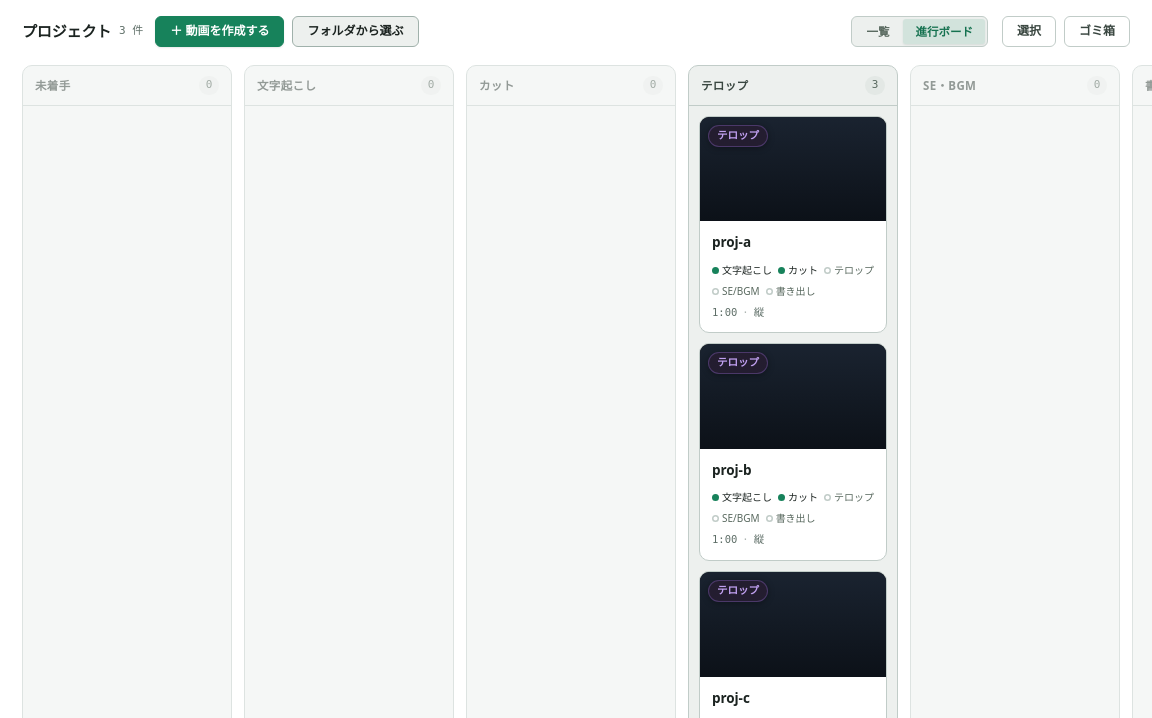
進行ボードの選択モード › 2 件選んで一括移動すると、確認のうえ DELETE が逐次 2 回飛び、一覧が更新される
Click the button "選択" at (1029, 32), box [1002,16,1056,47]
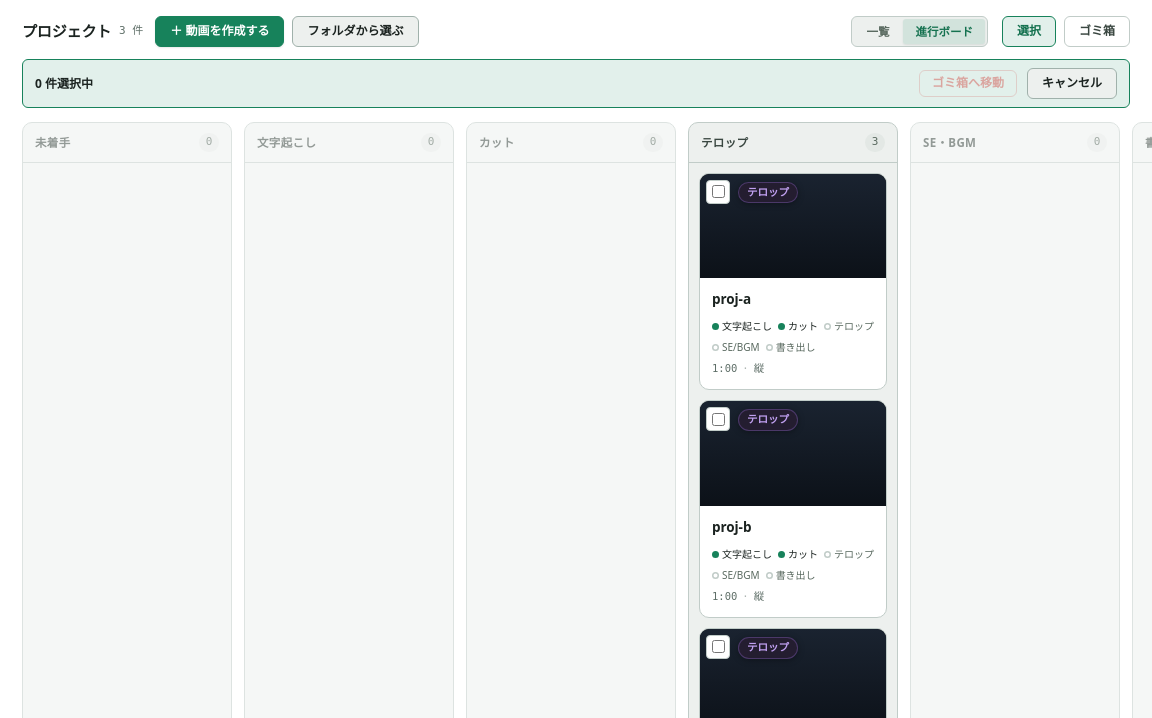
Click the button "proj-a" at (793, 281), box [699,172,887,390]
(page scrolled)
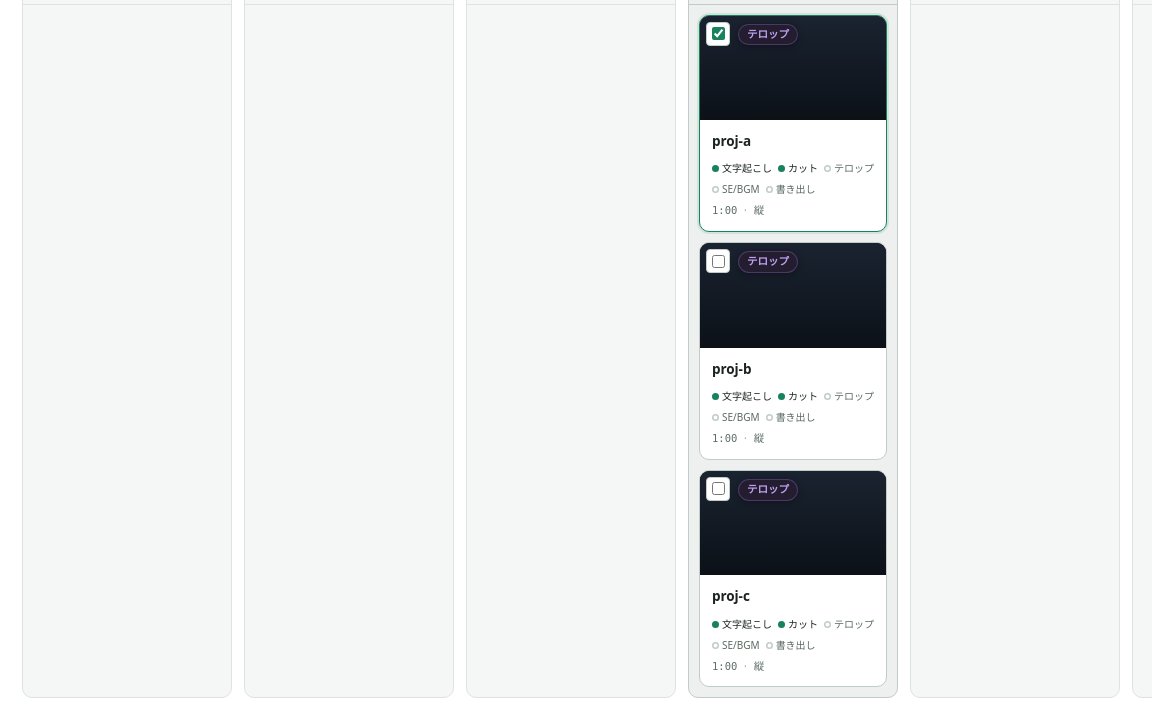
Click the button "proj-c" at (793, 579), box [699,470,887,687]
(page scrolled)
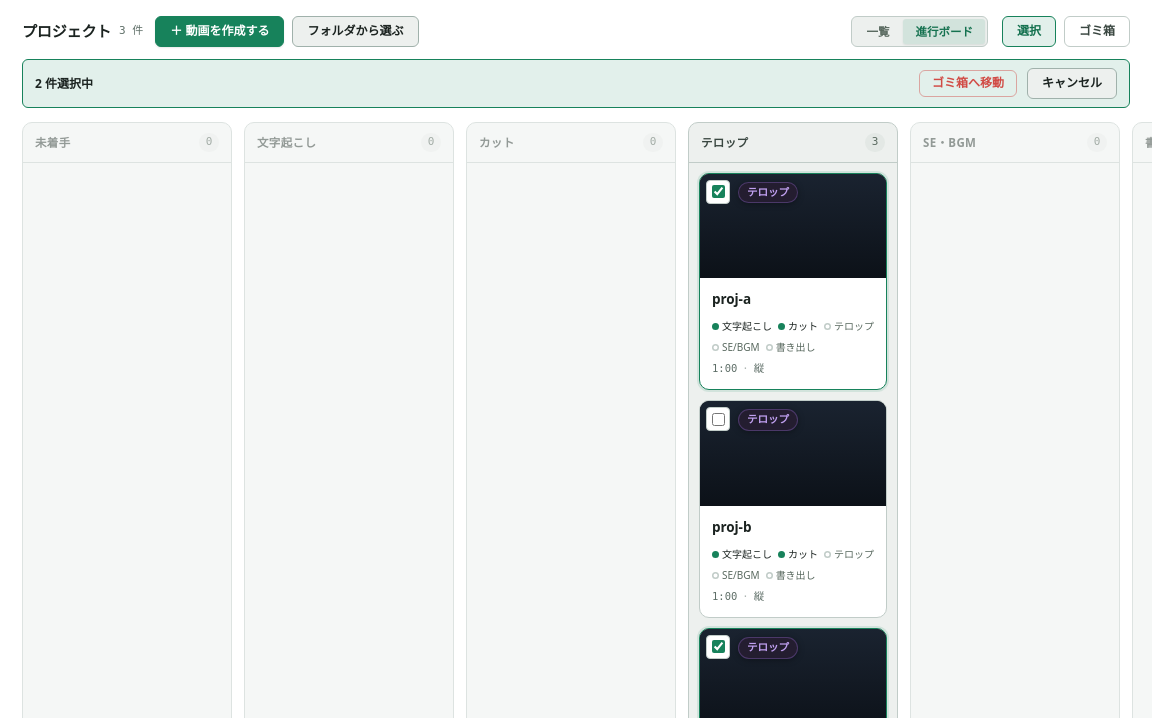
Expected: the message with test id "home-select-bar" shows "2 件選択中", [22,59,1130,108]
Click the button "ゴミ箱へ移動" at (968, 84), box [919,70,1017,97]
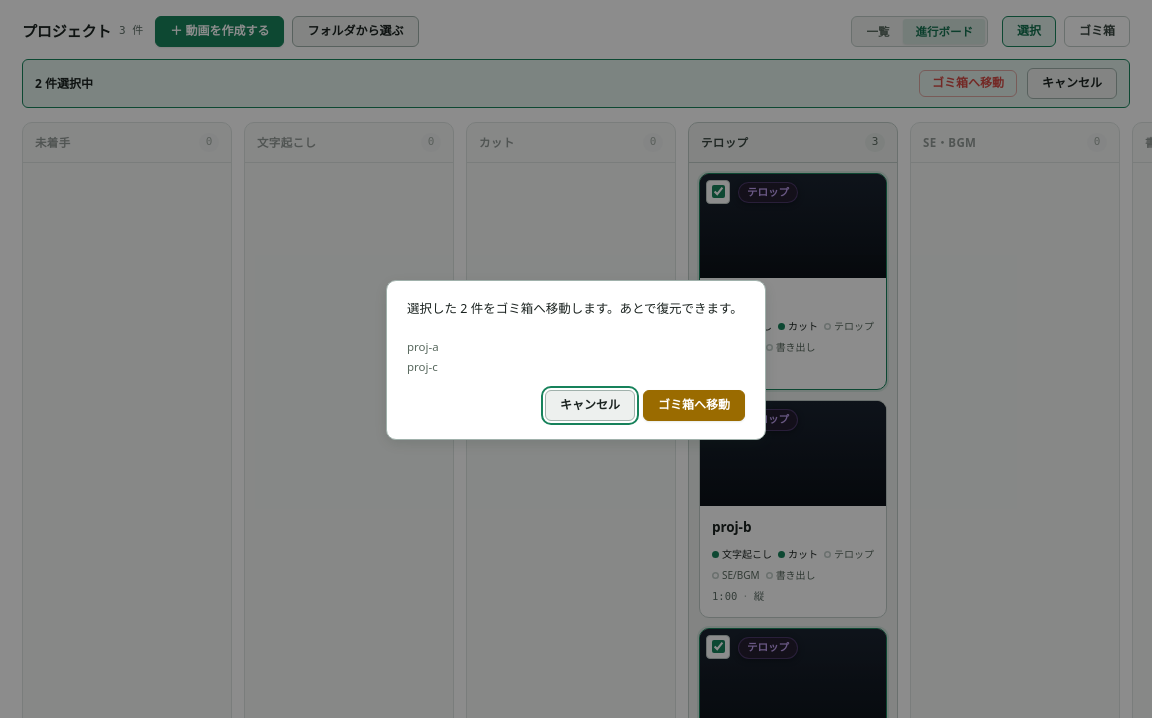
Expected: the dialog with test id "trash-confirm-dialog" shows "2 件", [386,280,766,440]
Expected: the dialog with test id "trash-confirm-dialog" shows "proj-a", [407,339,439,354]
Expected: the dialog with test id "trash-confirm-dialog" shows "proj-c", [407,359,438,374]
Click the button with test id "trash-confirm-ok" at (694, 405), box [643,390,745,421]
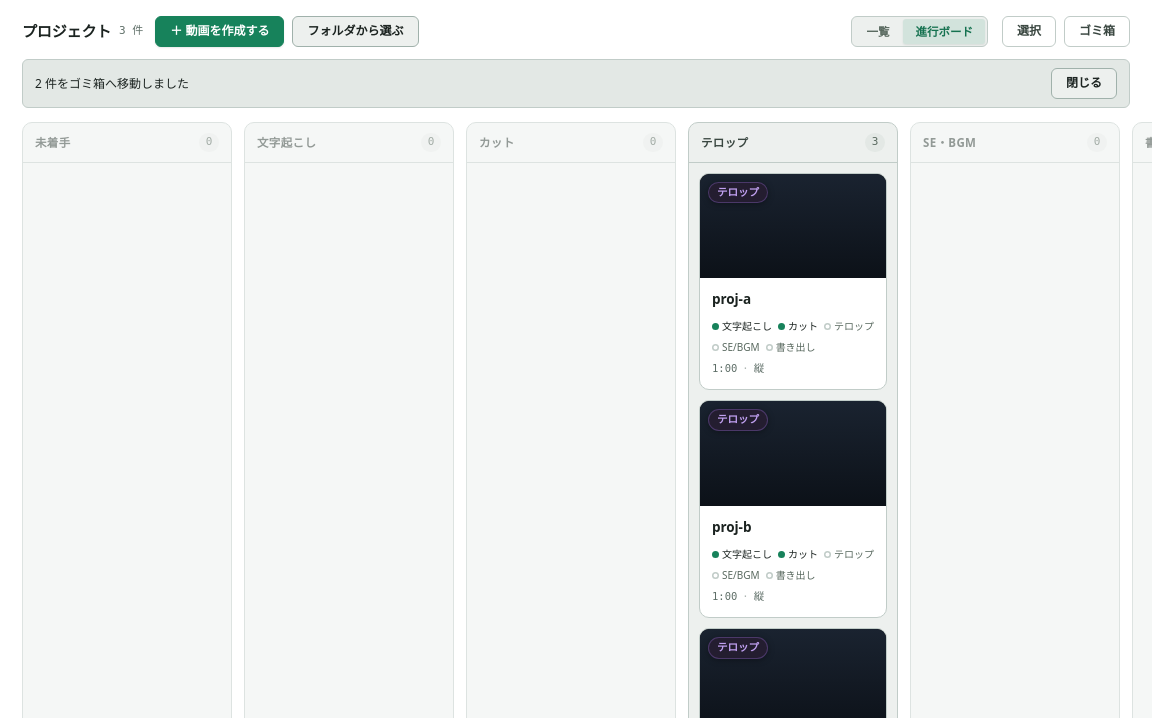
Expected: the message with test id "home-select-bar" is gone
Expected: the message with test id "home-bulk-notice" shows "2 件をゴミ箱へ移動しました", [35,75,189,92]
